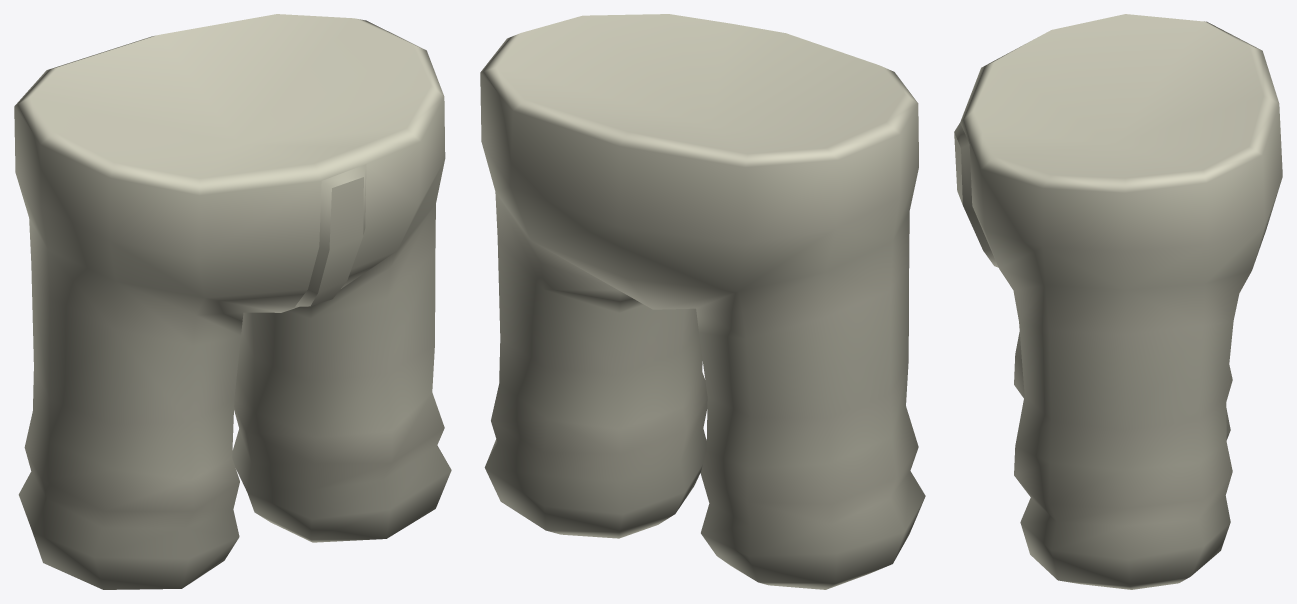
File: Bottom_23.fbx
3 views of the same model, side by side, from view 1: azimuth 30°, elevation 25°; view 2: azimuth 150°, elevation 25°; view 3: azimuth 270°, elevation 25° (orthographic). The views are drawn at different scales.
Visible parts, largest first — view 1: Bottom_23; view 2: Bottom_23; view 3: Bottom_23.
Boxes of the visible parts, box(x1,y1,x2,y2) form: Bottom_23: box(14, 14, 451, 589); Bottom_23: box(480, 14, 925, 589); Bottom_23: box(954, 14, 1282, 589).
Bounding box in the file's own units: 39.8 × 42.8 × 30.23.
